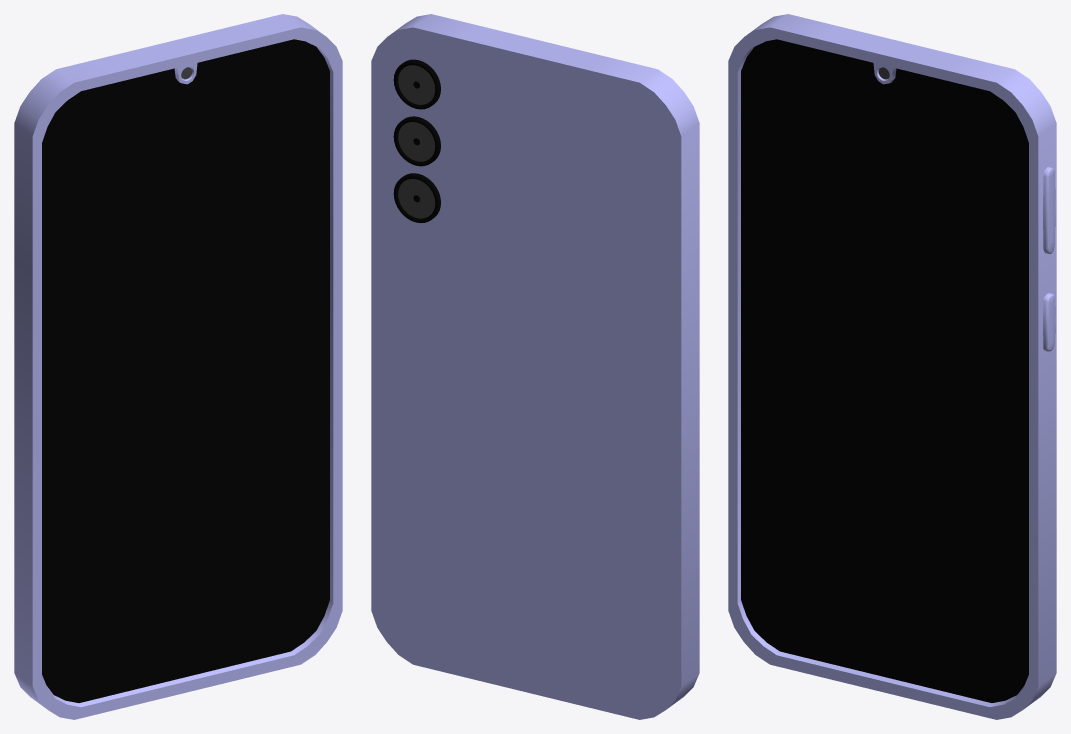
Rendered from Reject13.fbx.
The picture shows the model from 3 angles, left to right: view 1: azimuth 30°, elevation 25°; view 2: azimuth 150°, elevation 25°; view 3: azimuth 330°, elevation 25°; orthographic projection.
Visible parts, largest first — view 1: reject.012; view 2: reject.012; view 3: reject.012.
Part boxes in pixels (<box>): reject.012: <box>14,14,342,719</box>; reject.012: <box>371,14,699,719</box>; reject.012: <box>728,14,1056,719</box>.
Size of the model in its own units: 1.13 by 2.18 by 0.1292.
